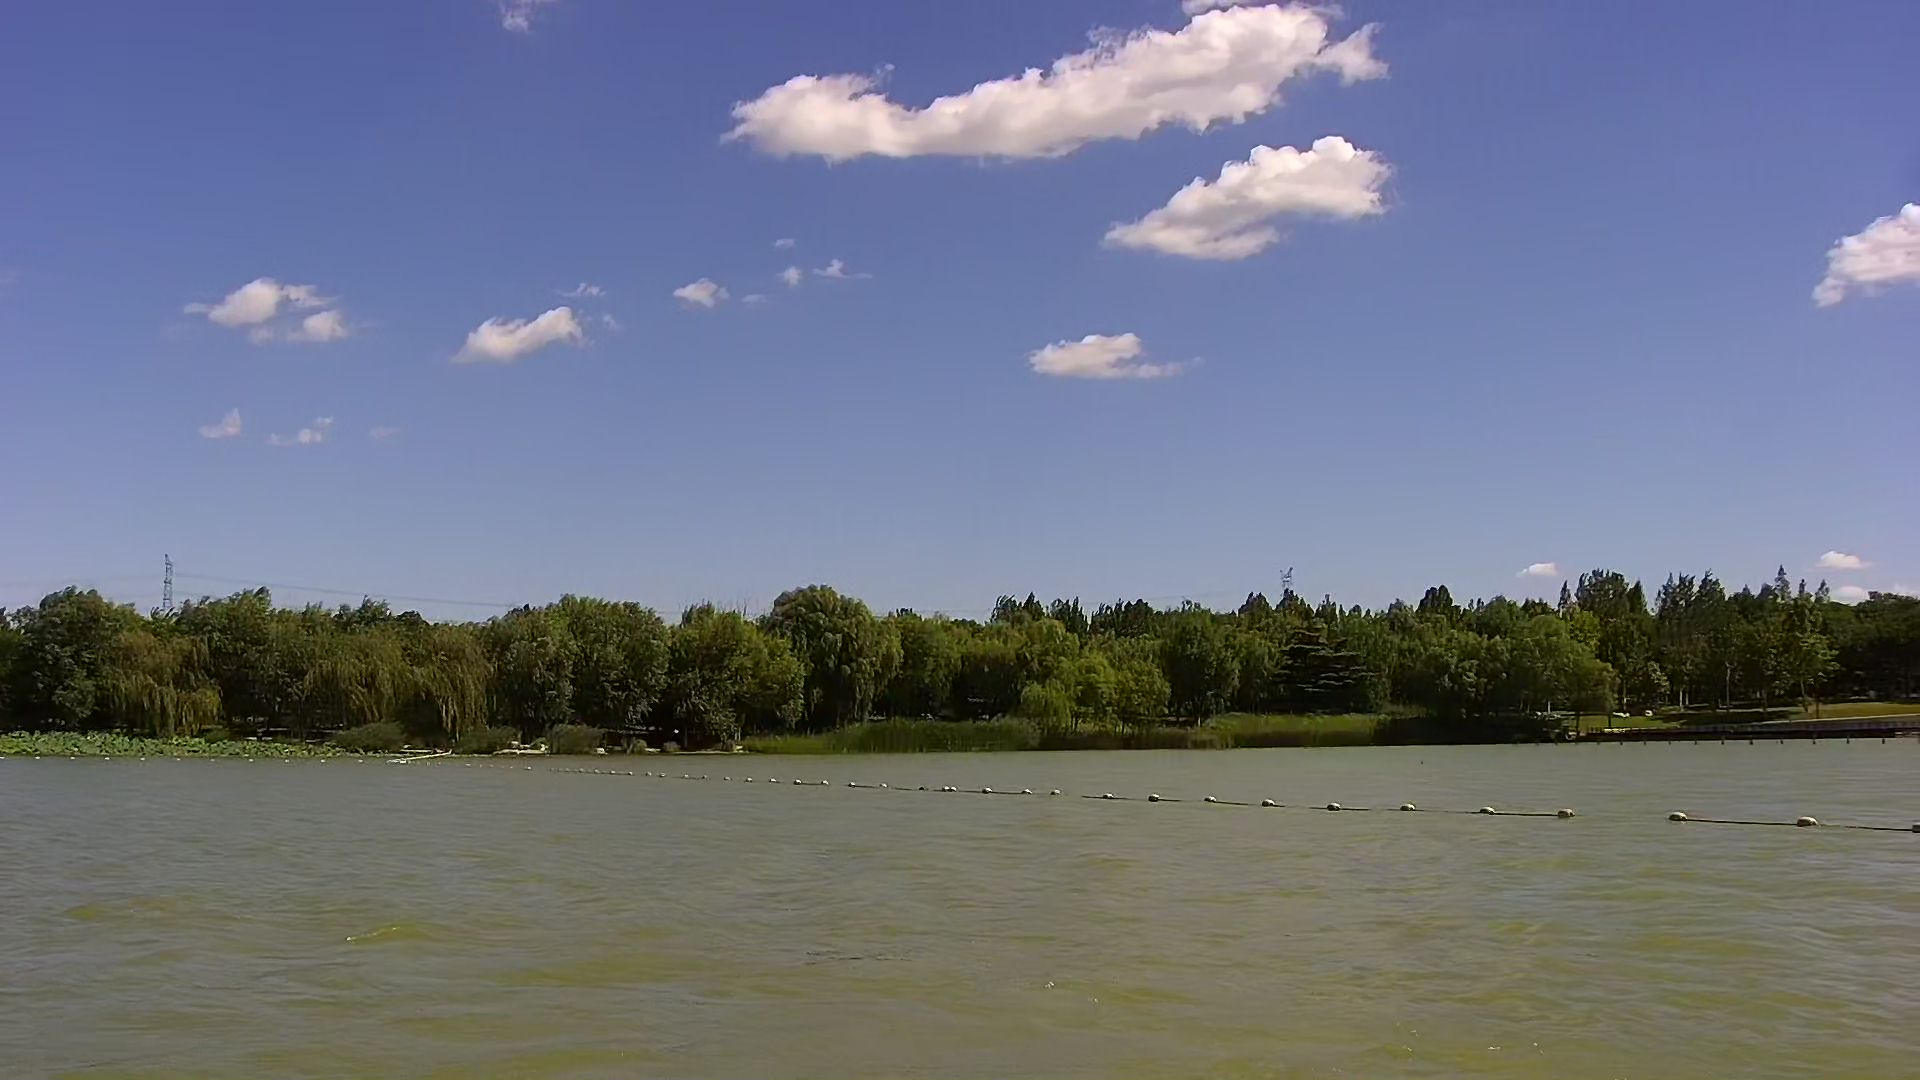ball: (1789, 800, 1829, 839), (1662, 796, 1704, 829), (1547, 799, 1586, 829), (1473, 793, 1513, 822), (1255, 781, 1287, 815), (1393, 789, 1424, 822), (1319, 794, 1356, 822)
